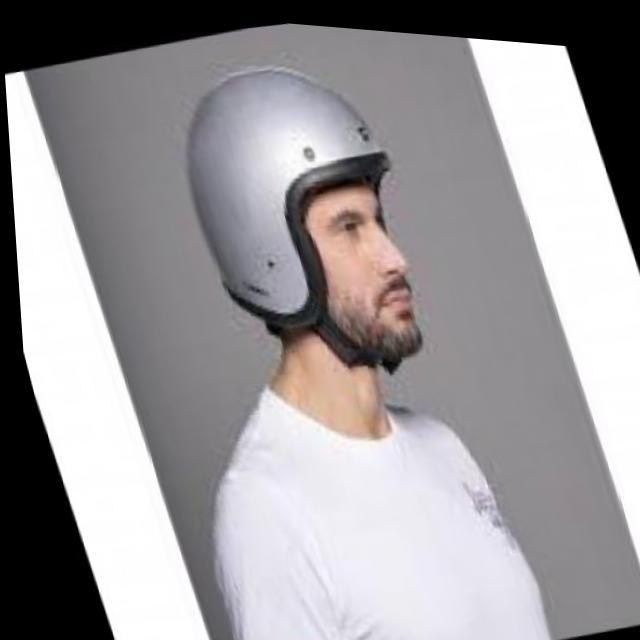Helmet: (182, 56, 438, 375)
